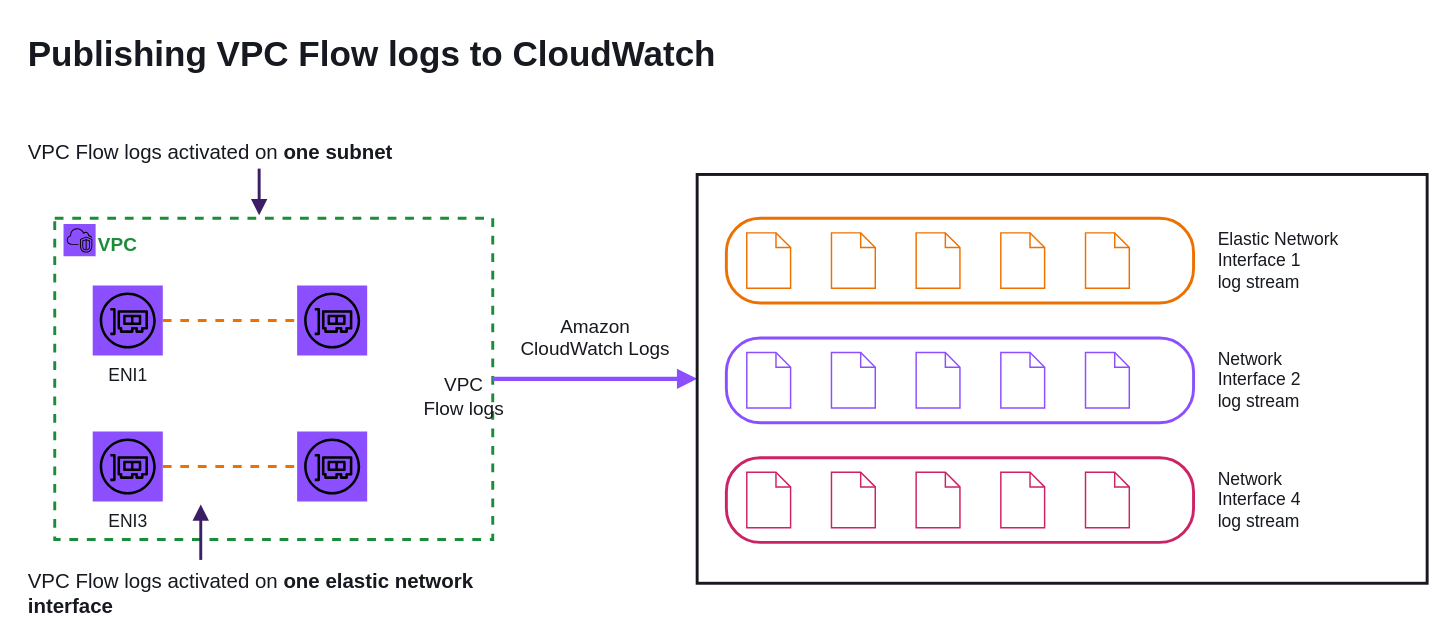
The diagram is 1453 pixels wide and 644 high, and some of its shapes have lost their labels. The centre of each missing label's shape, as x and y in pixels:
"ENI2" goes at point 331,320.
"ENI4" goes at point 331,466.
